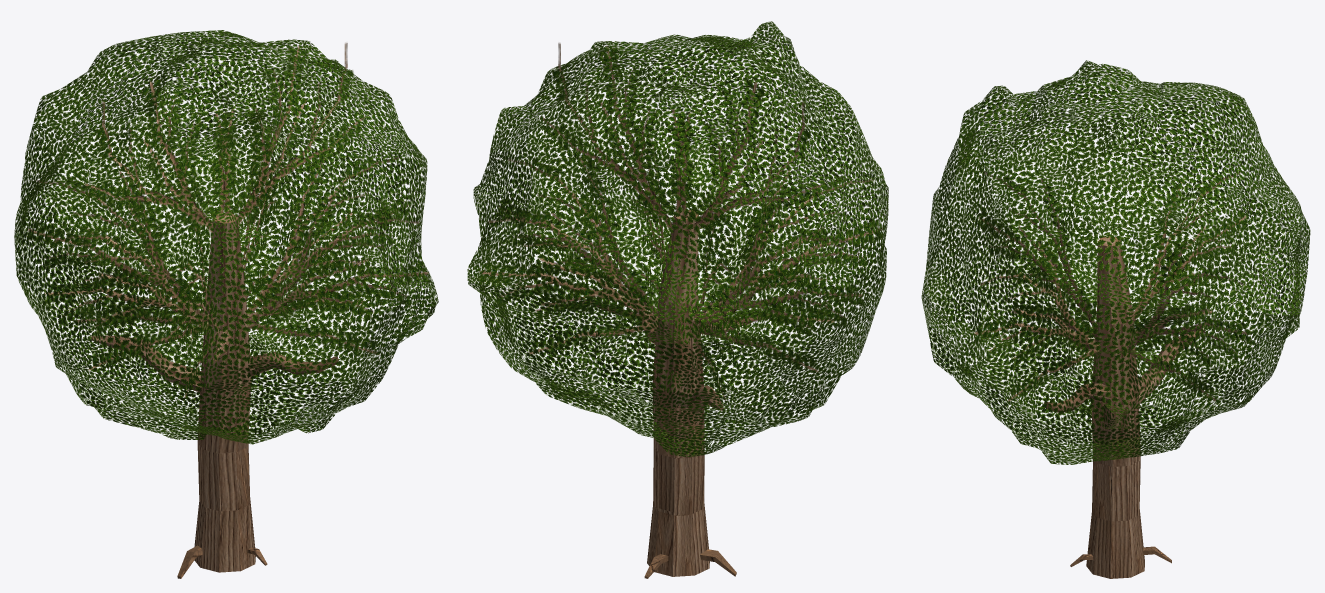
File: tree.glb
3 views of the same model, side by side, from view 1: azimuth 30°, elevation 25°; view 2: azimuth 150°, elevation 25°; view 3: azimuth 270°, elevation 25° (orthographic). The views are drawn at different scales.
Visible parts, largest first — view 1: leaves, branches, trunk-col; view 2: leaves, branches, trunk-col; view 3: leaves, trunk-col, branches.
Part boxes in pixels (x1,y1,x2,y2): leaves: (14, 30, 438, 444); branches: (26, 42, 429, 400); trunk-col: (91, 213, 338, 572); leaves: (467, 21, 888, 456); branches: (479, 42, 882, 400); trunk-col: (641, 210, 751, 576); leaves: (921, 60, 1310, 464); trunk-col: (1044, 236, 1203, 578); branches: (974, 171, 1250, 401).
Bounding box in the file's own units: 16.81 × 21.9 × 15.89.
3 materials, 3 textured.
